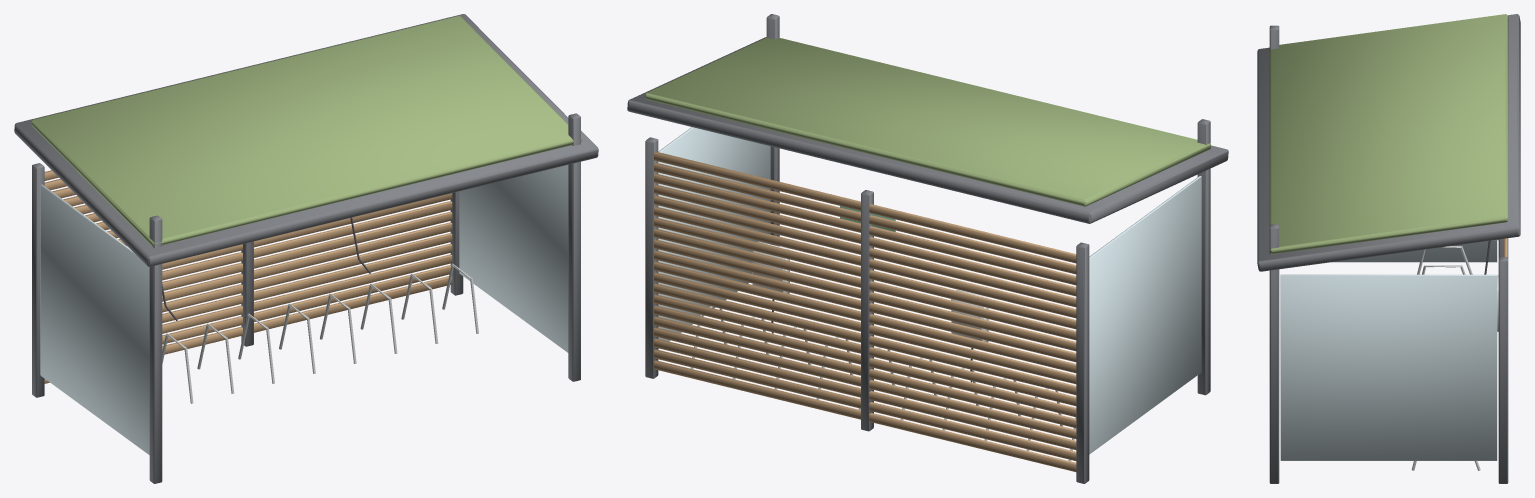
Rendered from bike_shed.glb.
3 views of the same model, side by side, from view 1: azimuth 30°, elevation 25°; view 2: azimuth 150°, elevation 25°; view 3: azimuth 270°, elevation 25° (orthographic). The views are drawn at different scales.
Visible parts, largest first — view 1: Body; view 2: Body; view 3: Body.
Part boxes in pixels (box(x1,y1,x2,y2)): Body: box(14, 14, 598, 483); Body: box(627, 14, 1228, 483); Body: box(1257, 14, 1520, 483).
Bounding box in the file's own units: 4.2 × 2.46 × 2.18.
